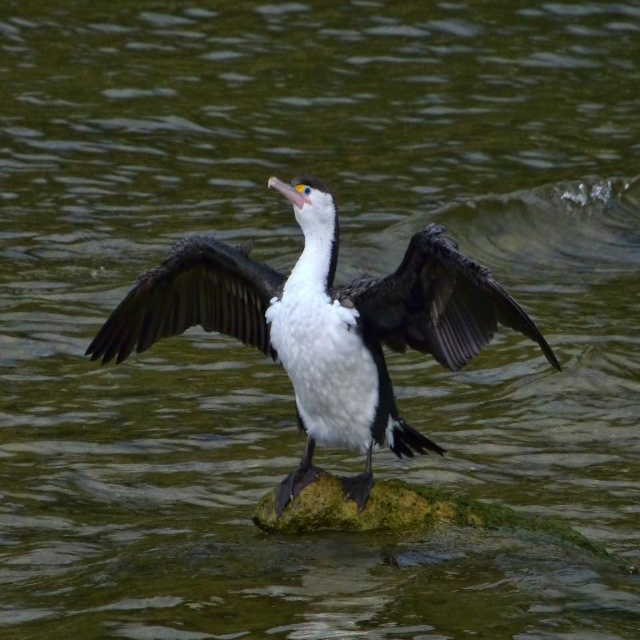Goose: (83, 180, 557, 515)
